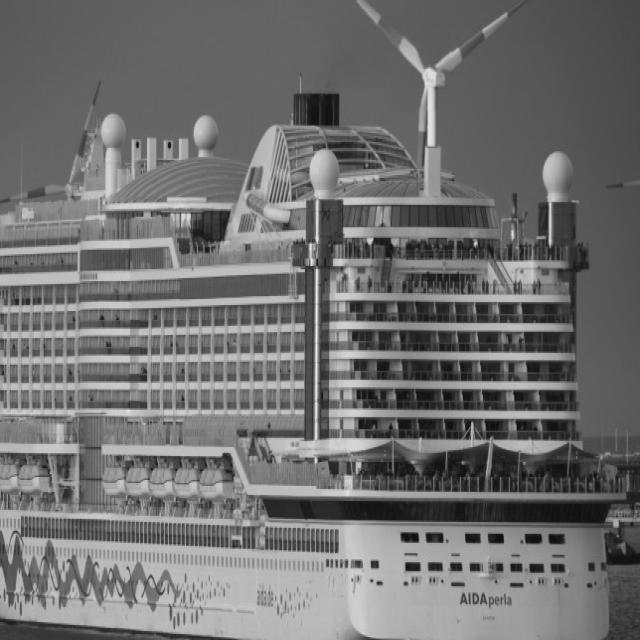cruises: (1, 92, 622, 640)
